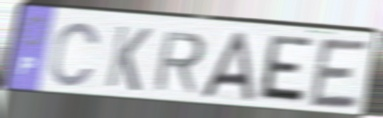A: (198, 30, 256, 102)
C: (48, 19, 103, 89)
E: (306, 36, 372, 112), (254, 33, 316, 108)
K: (103, 23, 154, 95)
R: (150, 30, 208, 96)
